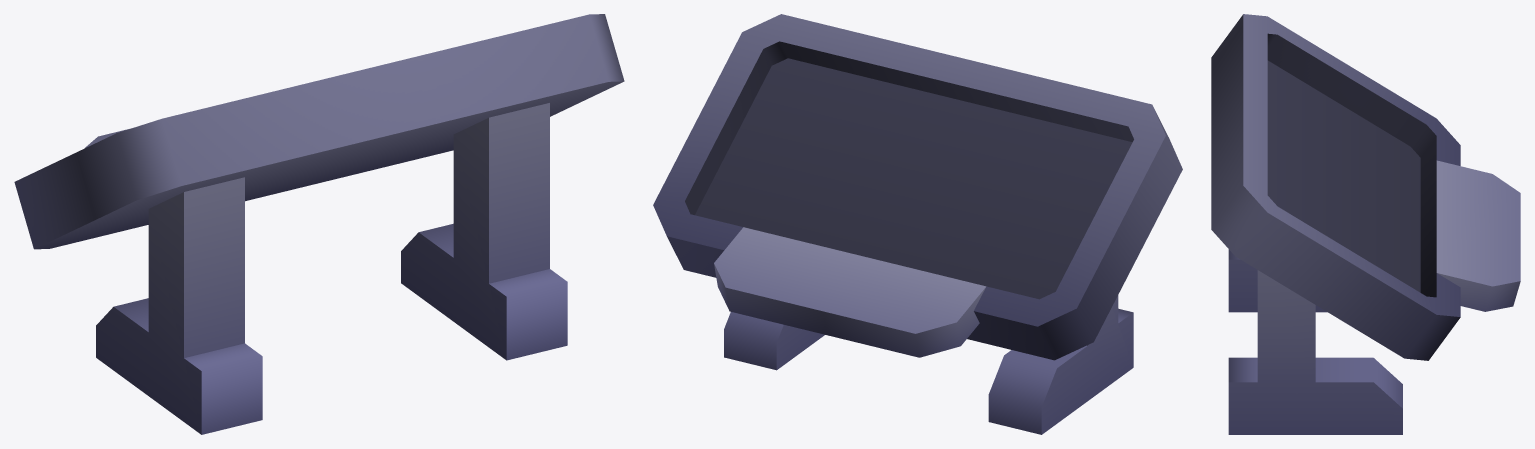
File: screen-panel-flat.glb
3 views of the same model, side by side, from view 1: azimuth 30°, elevation 25°; view 2: azimuth 150°, elevation 25°; view 3: azimuth 270°, elevation 25° (orthographic). The views are drawn at different scales.
Visible parts, largest first — view 1: screen-panel-flat; view 2: screen-panel-flat; view 3: screen-panel-flat.
Part boxes in pixels (<box>): screen-panel-flat: <box>14,14,624,434</box>; screen-panel-flat: <box>653,14,1182,434</box>; screen-panel-flat: <box>1211,14,1520,434</box>.
Bounding box in the file's own units: 1.2 × 0.7453 × 0.7998.
